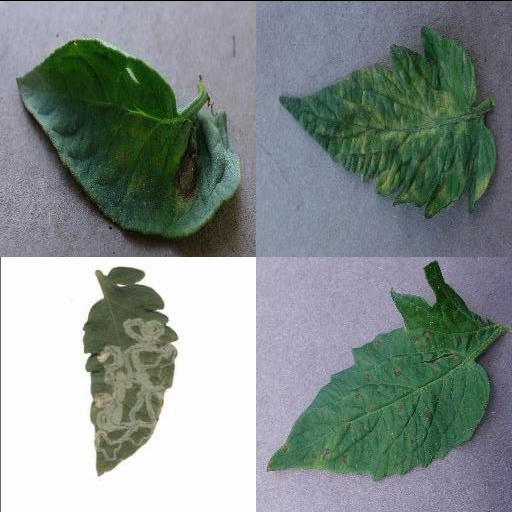Early Blight: (15, 40, 241, 238)
Leaf Miner: (82, 266, 180, 475)
Leaf Mold: (278, 22, 494, 216)
Septoria: (264, 260, 490, 478)
